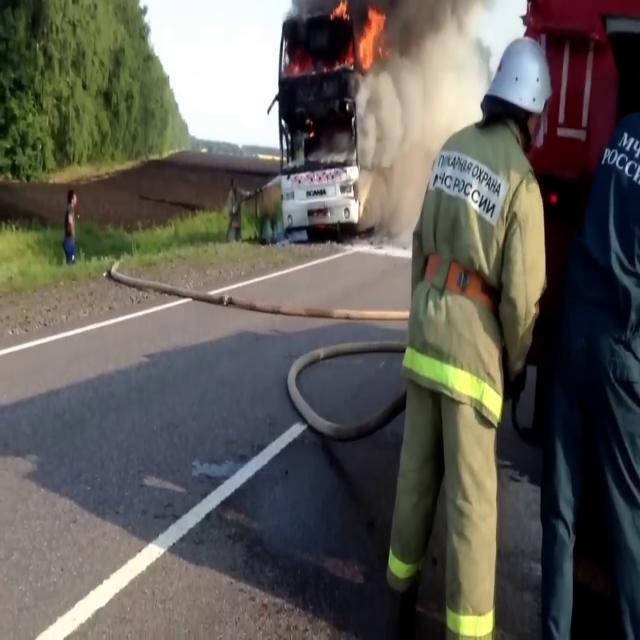Fire: (353, 2, 388, 76)
Smoke: (358, 0, 482, 236)
